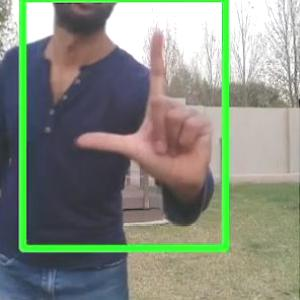land_hand: (74, 21, 218, 194)
